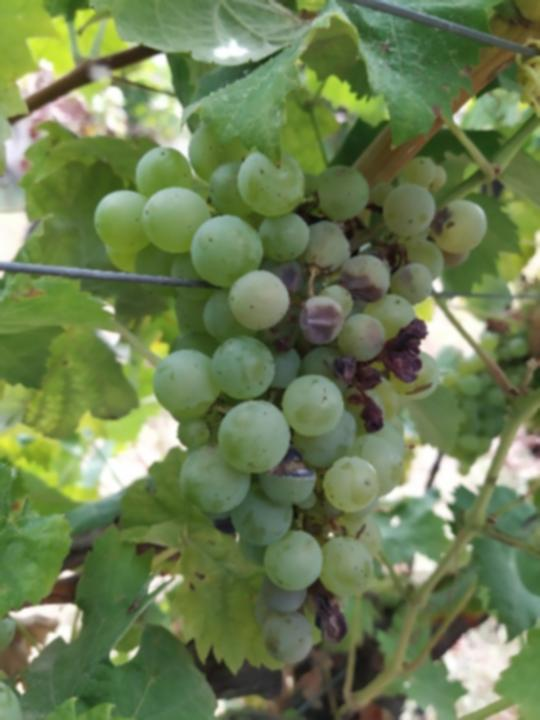grape: (90, 122, 490, 667)
